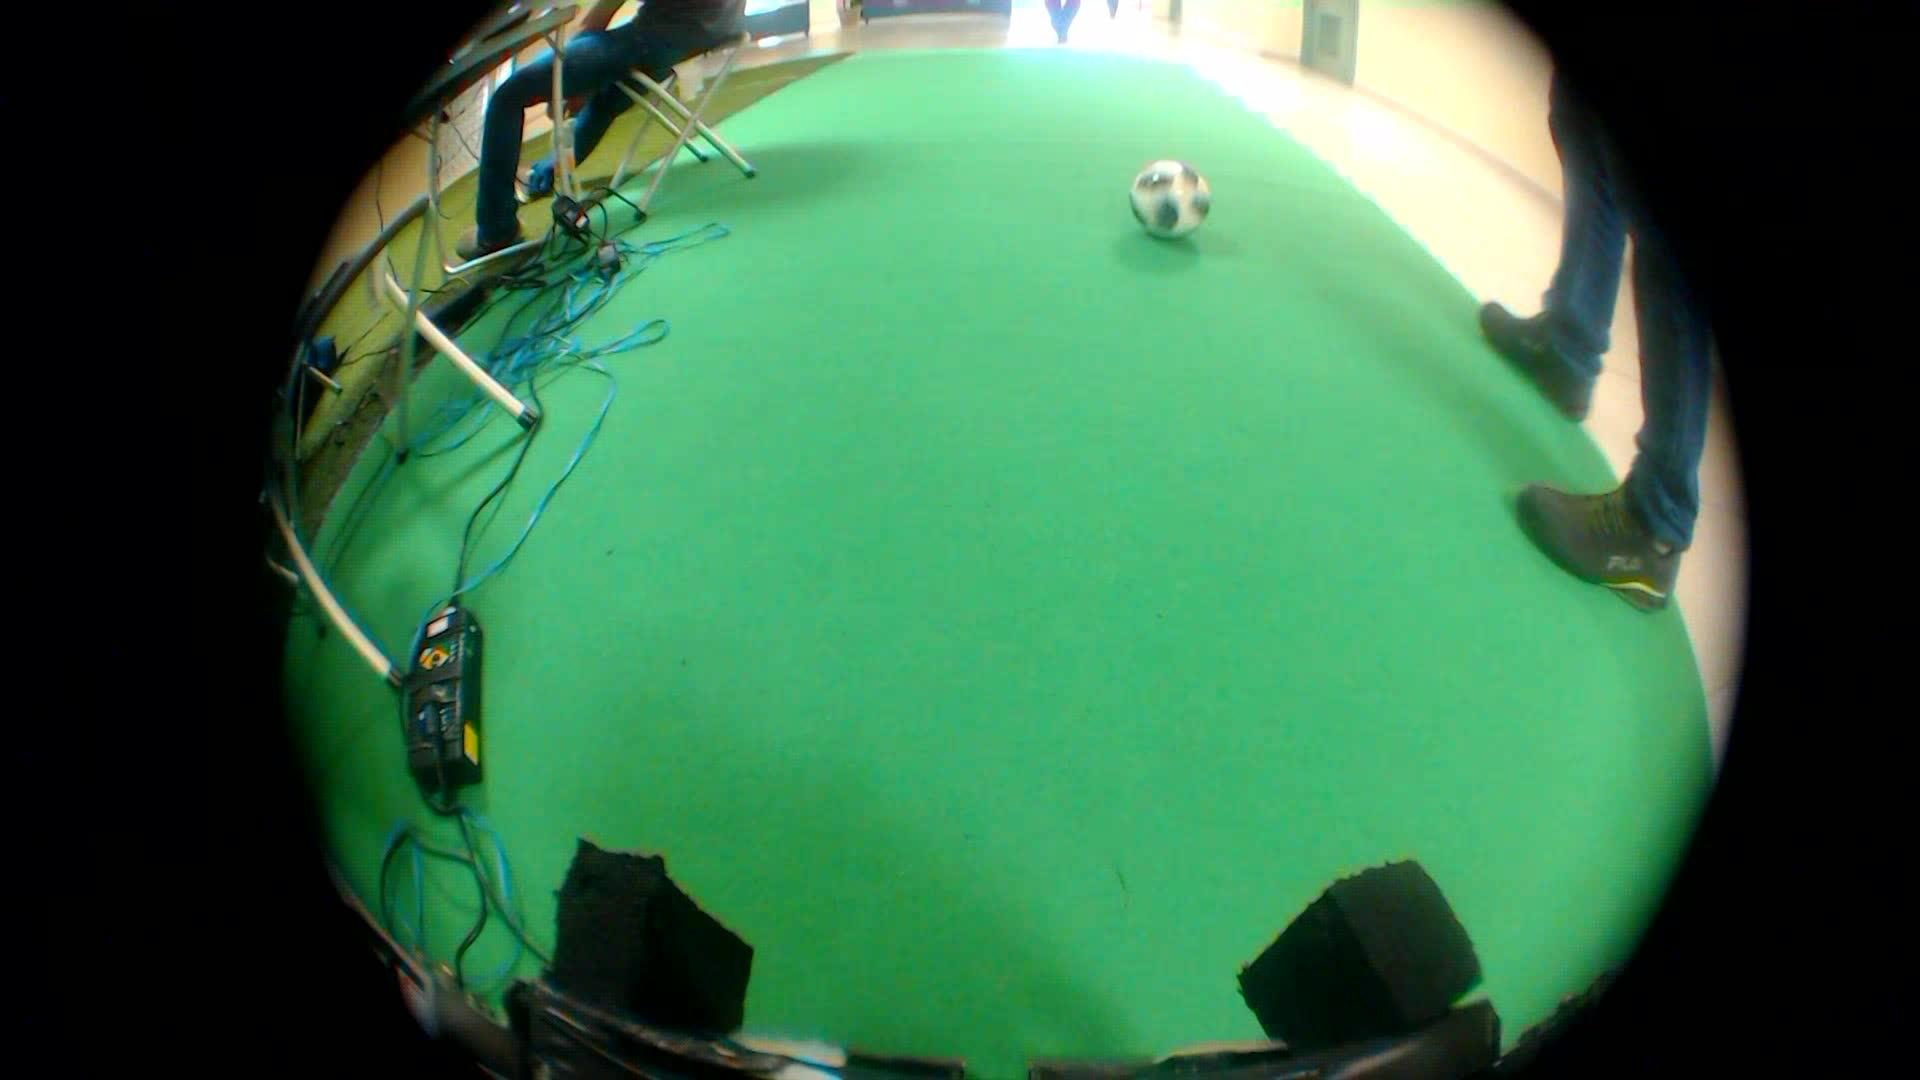ball: (1116, 152, 1217, 248)
